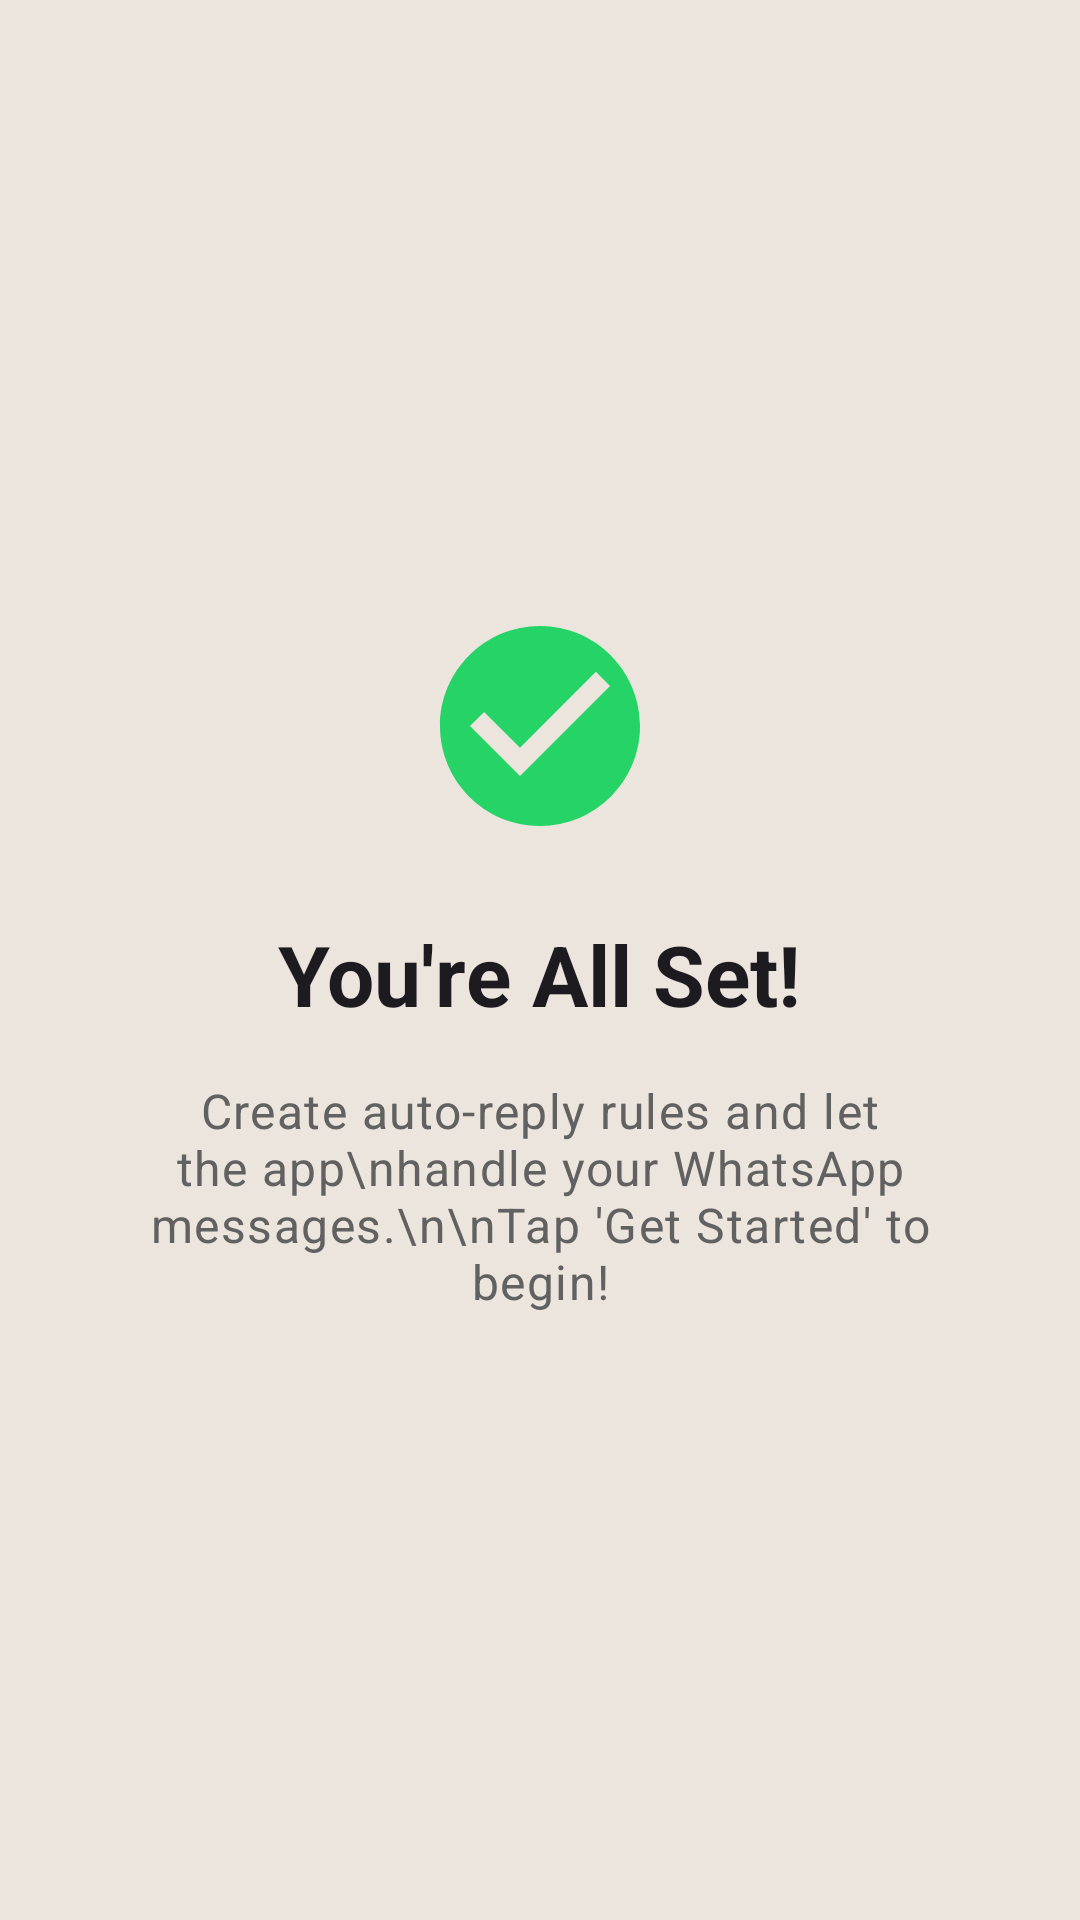

Where to tap for icons on this 1080*1920 app screen, as (x,y):
Done: (540,726)
